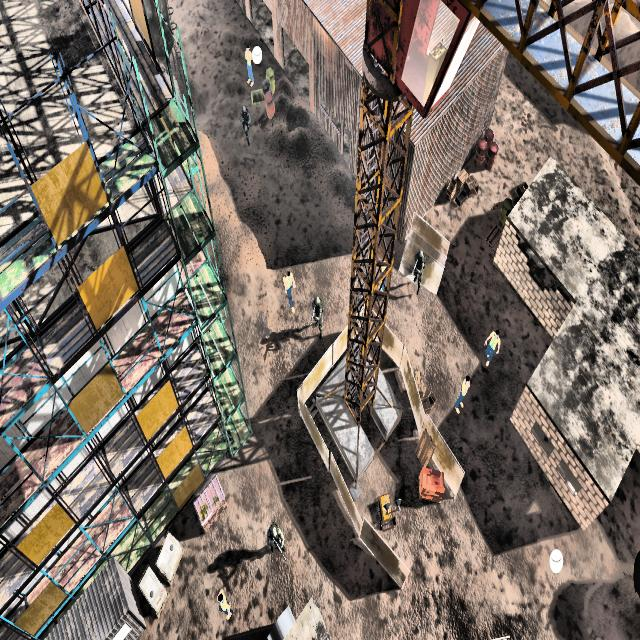bad: (261, 508, 289, 563), (304, 285, 327, 340), (236, 100, 255, 158), (411, 245, 427, 295)
good: (278, 263, 298, 325), (481, 321, 502, 374), (454, 369, 472, 421), (212, 587, 236, 624), (242, 38, 259, 90)
